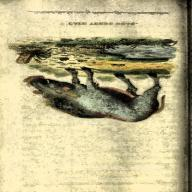boar: (23, 68, 165, 123)
